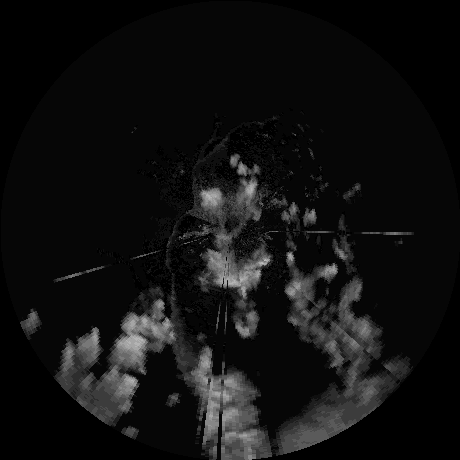frontgust: (162, 209, 190, 307), (189, 136, 227, 204)
